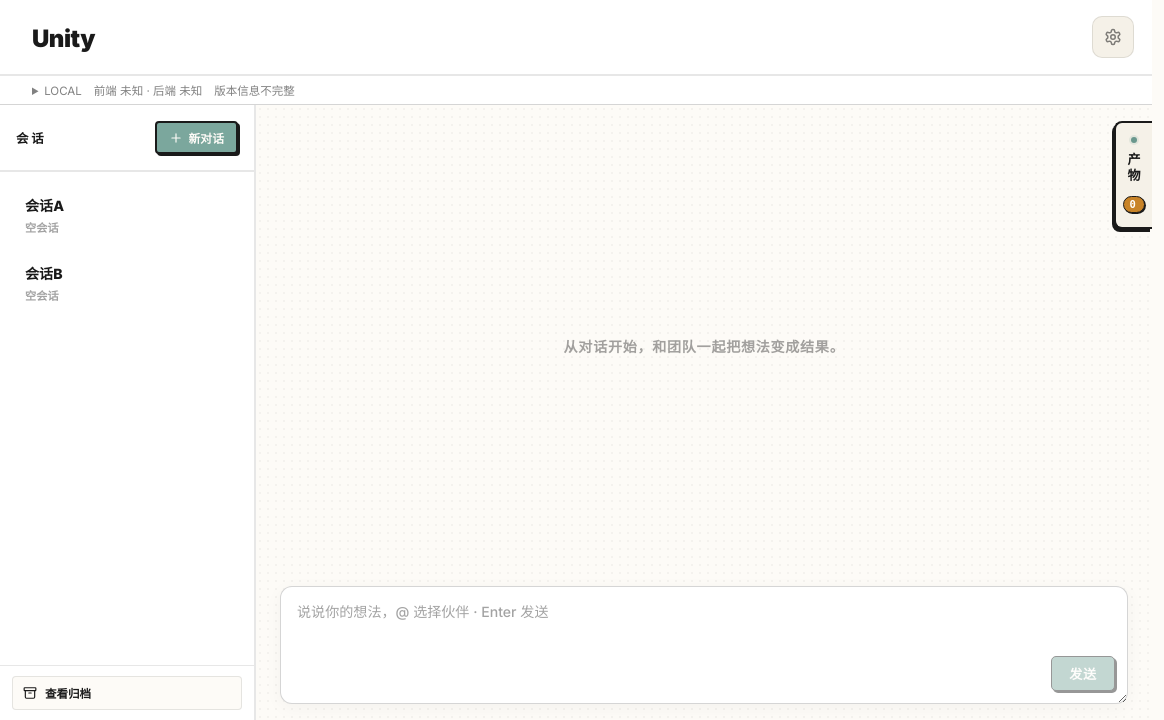
Test: Unity app › 晚到的来源会话请求不能覆盖用户后来选择的会话
Click the button "会话A 空会话".
click(127, 215)  # box [12,184,242,246]
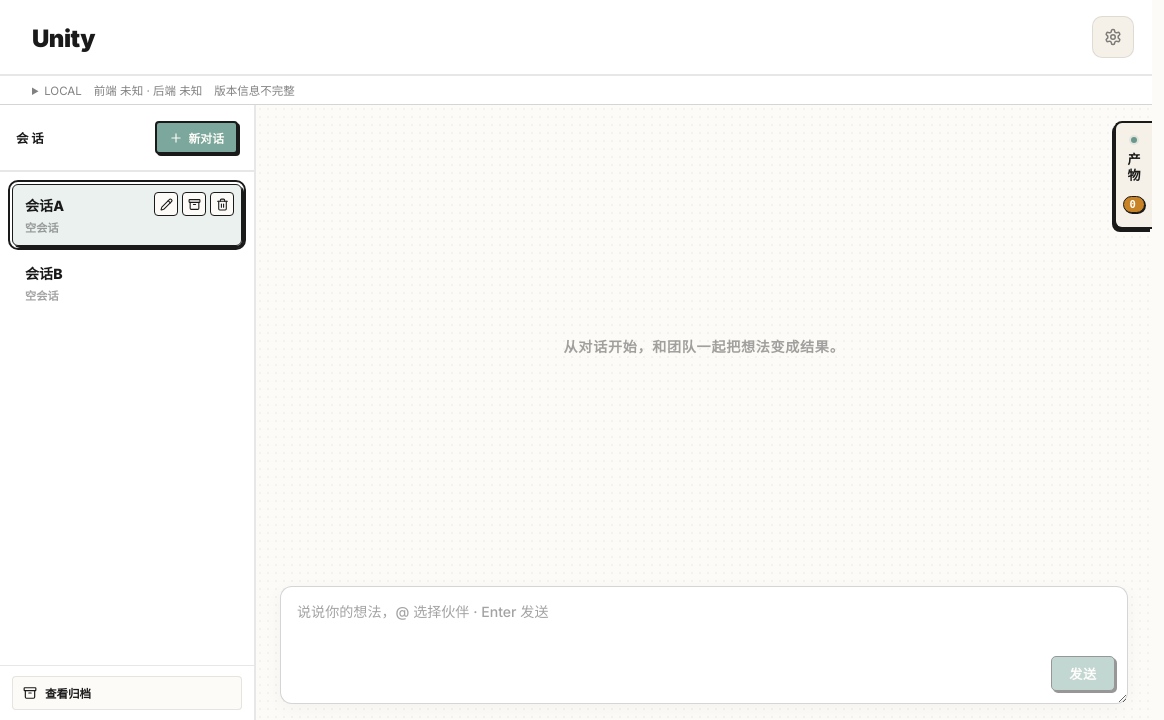
Click the button "会话B 空会话".
click(127, 283)  # box [12,252,242,314]
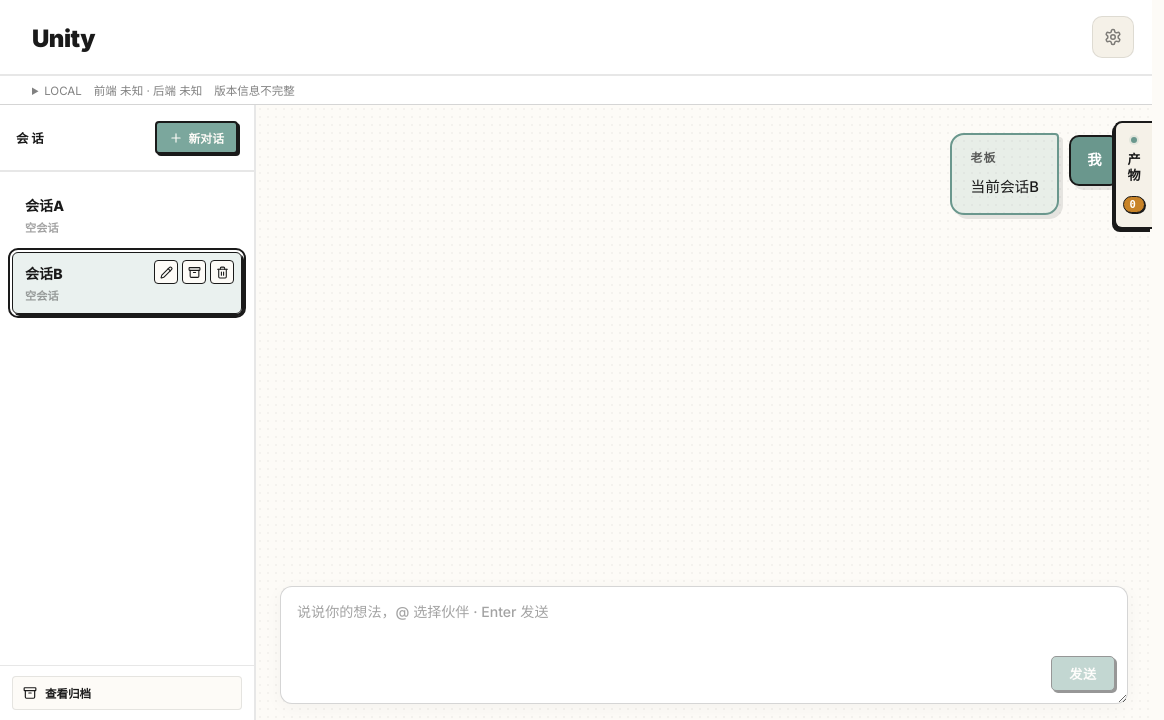
Expected: the text "当前会话B" is shown, [970,174,1039,199]
